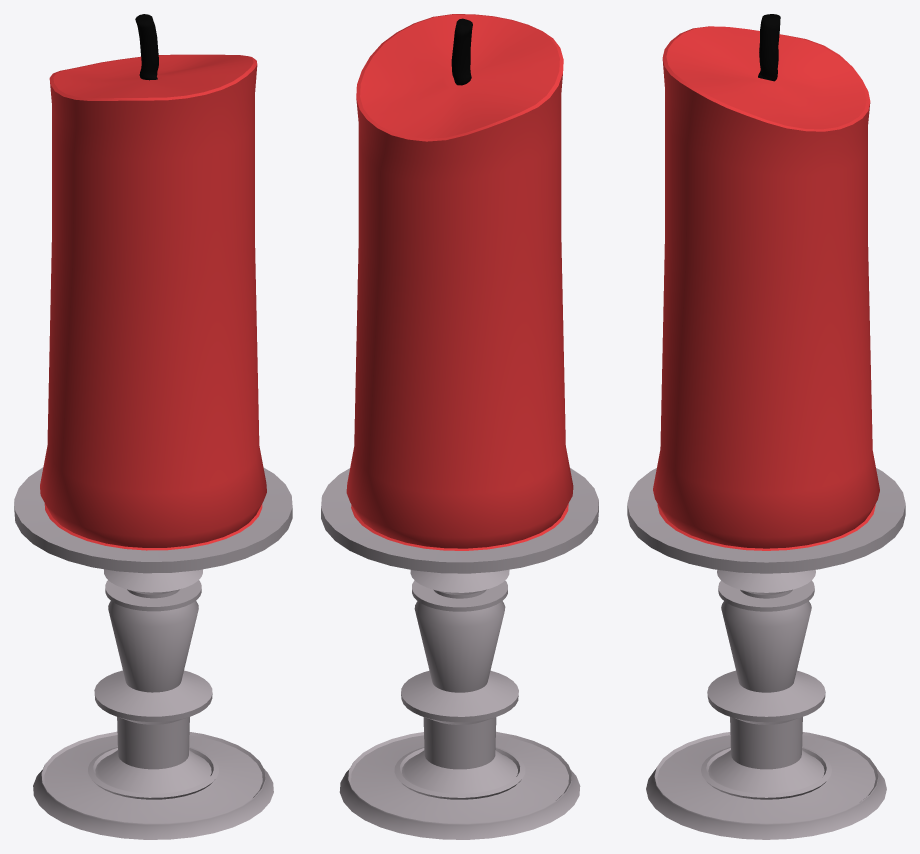
The model's file is CandlesFat_Tall.fbx.
3 renders of one model, left to right at view 1: azimuth 30°, elevation 25°; view 2: azimuth 150°, elevation 25°; view 3: azimuth 270°, elevation 25°, orthographic.
Parts seen in each view (by area): view 1: CandleTall; view 2: CandleTall; view 3: CandleTall.
Boxes of the visible parts, x1,y1,x2,y2 form: CandleTall: (14,14,292,839); CandleTall: (321,14,598,839); CandleTall: (627,14,905,839).
Size of the model in its own units: 13.67 by 41.75 by 13.68.
